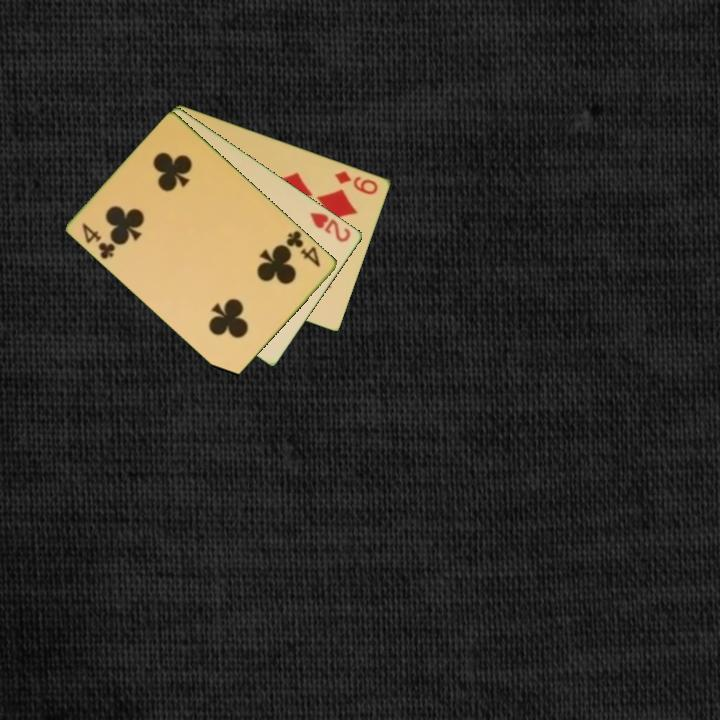2h: (307, 208, 354, 245)
4c: (283, 227, 323, 270), (79, 219, 119, 262)
9d: (332, 167, 381, 197)
